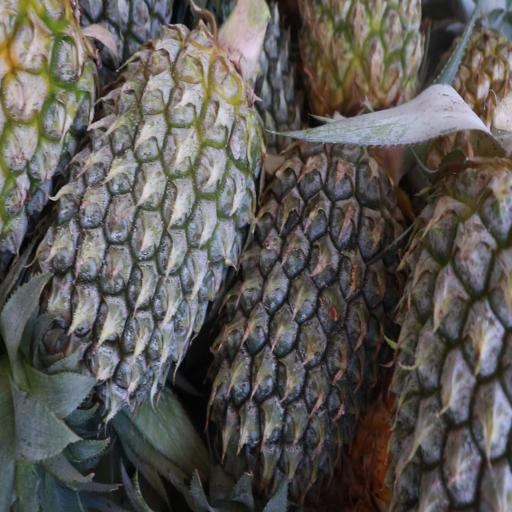------------------------------: (0, 0, 107, 247), (300, 0, 421, 113)
